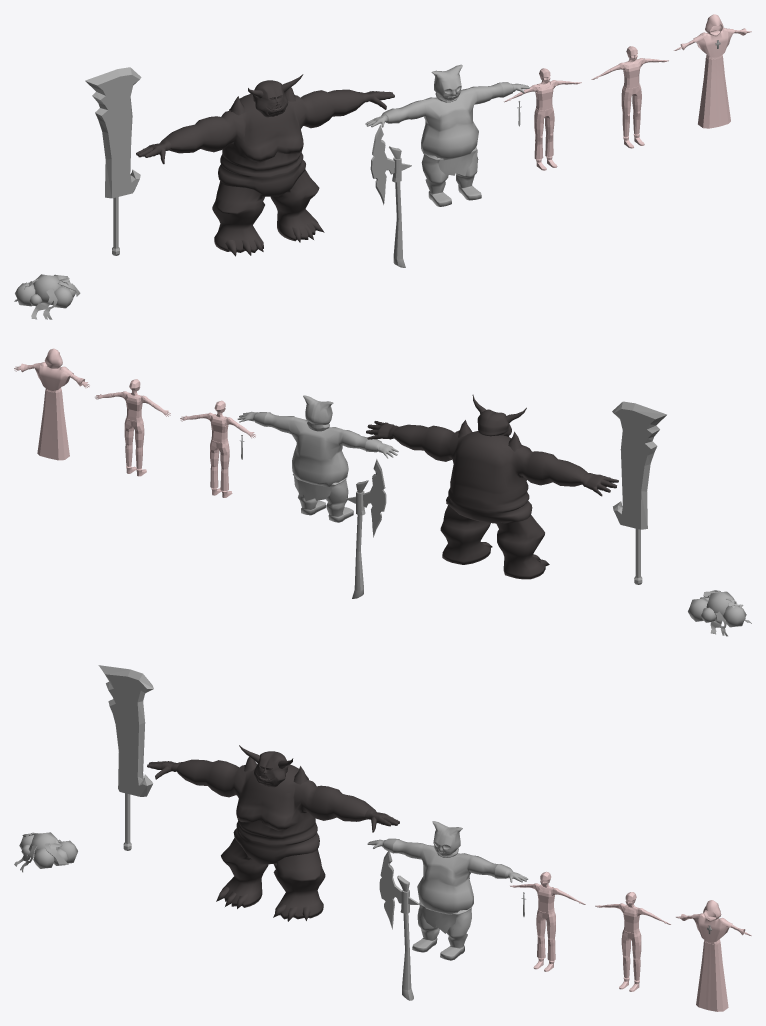
The model's file is lineUp.fbx.
3 renders of one model, top to bottom at view 1: azimuth 30°, elevation 25°; view 2: azimuth 150°, elevation 25°; view 3: azimuth 330°, elevation 25°, orthographic. The views are drawn at different scales.
Visible parts, largest first — view 1: polySurface172, polySurface126, polySurface179, polySurface47, pPlane2, polySurface23, pCube30, polySurface15; view 2: polySurface172, polySurface126, polySurface179, polySurface47, polySurface23, pPlane2, polySurface15, pCube30; view 3: polySurface172, polySurface126, polySurface179, polySurface47, pPlane2, polySurface23, polySurface15, pCube30.
Part boxes in pixels (x1,y1,x2,y2): polySurface172: [136, 74, 394, 256]; polySurface126: [365, 64, 529, 206]; polySurface179: [85, 67, 141, 255]; polySurface47: [674, 14, 751, 128]; pPlane2: [370, 125, 411, 267]; polySurface23: [504, 68, 581, 170]; pCube30: [14, 274, 80, 319]; polySurface15: [591, 46, 668, 148]; polySurface172: [366, 394, 618, 579]; polySurface126: [237, 395, 398, 522]; polySurface179: [612, 401, 666, 584]; polySurface47: [14, 348, 89, 460]; polySurface23: [180, 400, 255, 497]; pPlane2: [346, 459, 386, 598]; polySurface15: [95, 379, 170, 476]; pCube30: [688, 590, 751, 636]; polySurface172: [147, 745, 399, 921]; polySurface126: [367, 821, 528, 960]; polySurface179: [98, 665, 153, 850]; polySurface47: [676, 900, 751, 1011]; pPlane2: [379, 851, 419, 1000]; polySurface23: [510, 871, 585, 971]; polySurface15: [595, 892, 670, 991]; pCube30: [14, 832, 77, 872].
Size of the model in its own units: 13.67 by 4.73 by 1.37.
